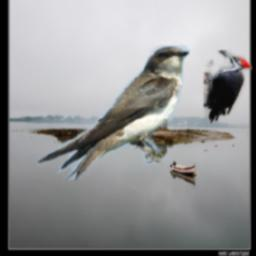Swallow: (38, 45, 190, 180)
Woodpecker: (205, 50, 253, 123)
